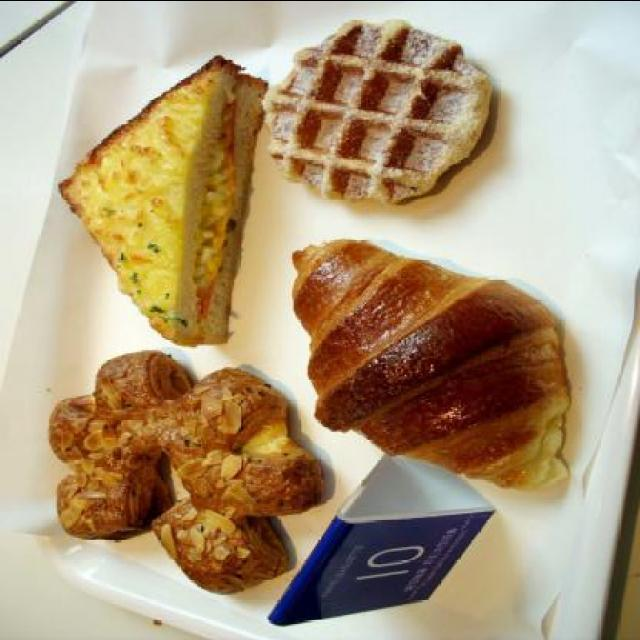Waffle: (256, 20, 492, 208)
